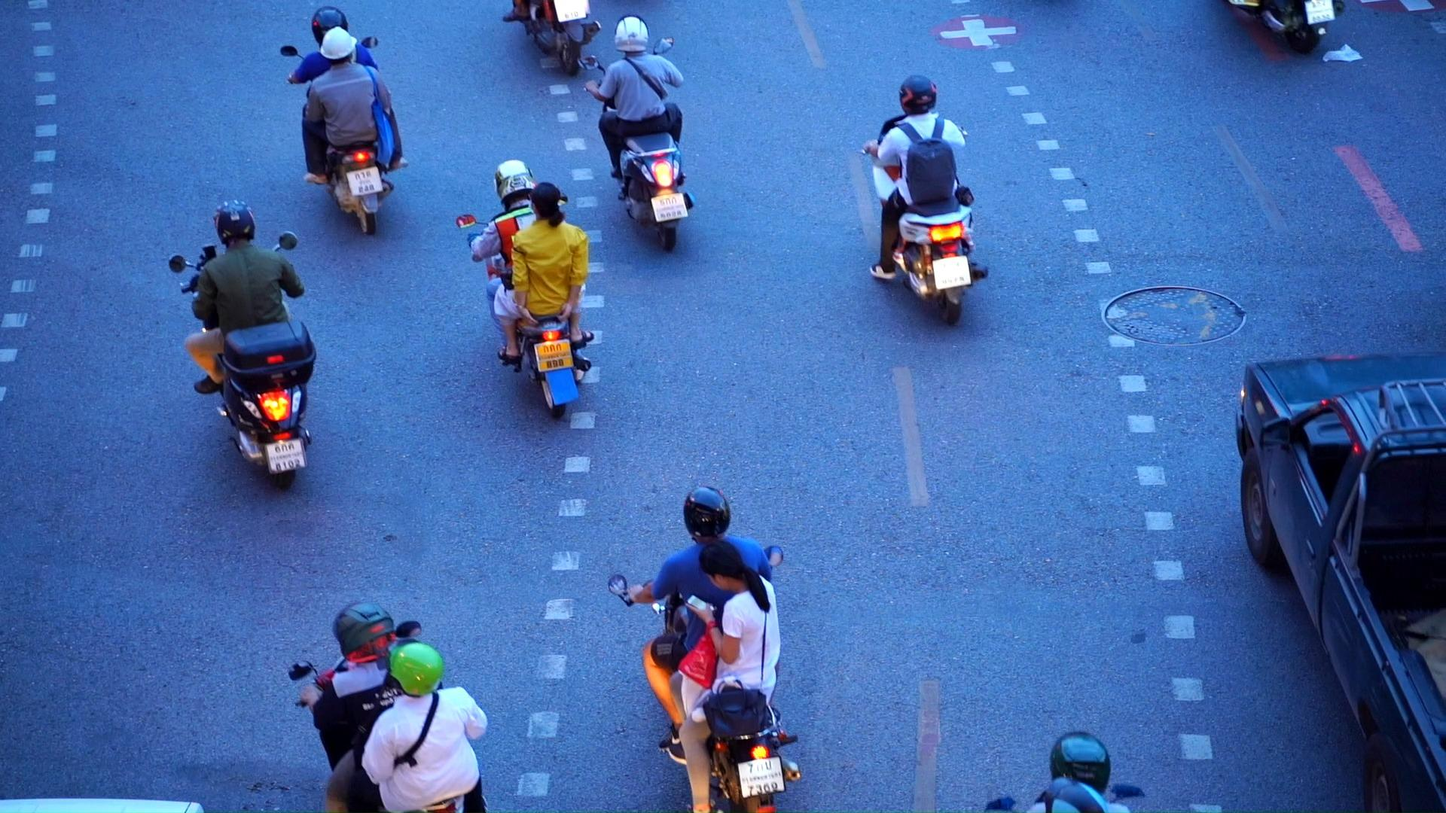driver: (608, 486, 802, 813), (286, 601, 490, 813), (169, 200, 318, 490), (457, 159, 595, 417), (857, 75, 988, 325), (280, 5, 410, 235), (576, 14, 697, 253), (503, 0, 602, 75)
helmet: (376, 637, 445, 698), (332, 601, 397, 665), (1049, 731, 1111, 796), (683, 486, 730, 540), (1045, 776, 1108, 813), (493, 159, 536, 206), (213, 200, 256, 245), (312, 5, 348, 48), (320, 26, 358, 66), (899, 75, 936, 116), (614, 13, 650, 53)
no-helmet: (699, 539, 769, 595), (527, 182, 564, 228)
